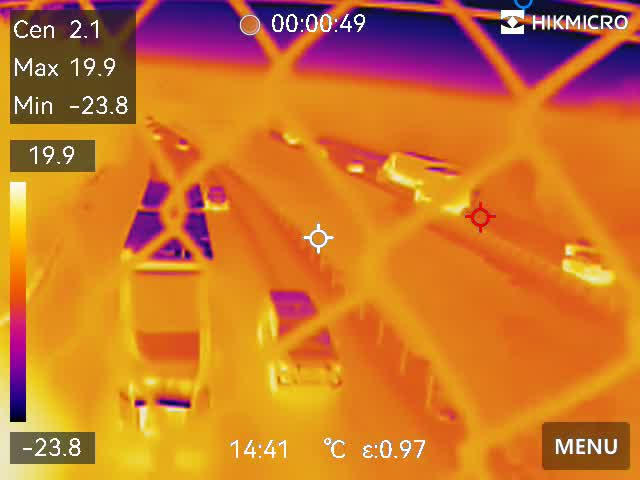heavyTruck: (114, 174, 226, 460), (376, 153, 506, 189)
largeCar: (258, 286, 349, 398)
smallCar: (557, 249, 614, 287), (558, 236, 614, 261), (204, 179, 233, 214)
vehicle: (343, 158, 363, 180), (148, 131, 170, 143), (175, 137, 190, 150)
